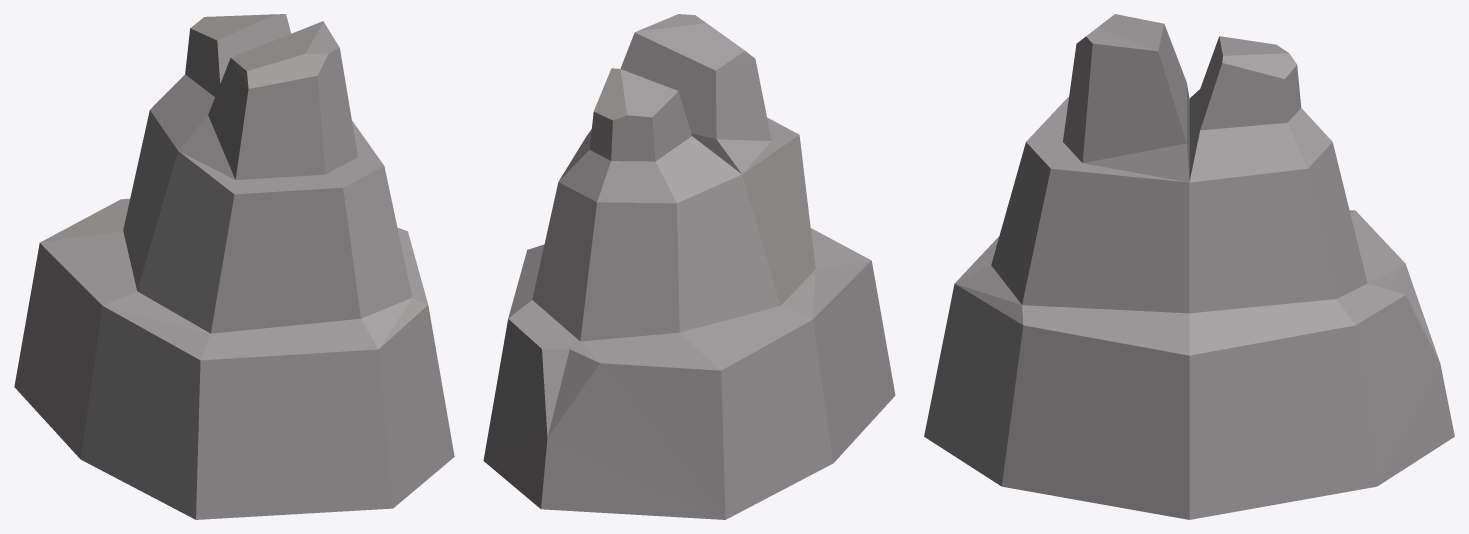
Rendered from Rock_Round_l_04.fbx.
3 views of the same model, side by side, from view 1: azimuth 30°, elevation 25°; view 2: azimuth 150°, elevation 25°; view 3: azimuth 270°, elevation 25° (orthographic). The views are drawn at different scales.
Visible parts, largest first — view 1: Rock_Round_l_04; view 2: Rock_Round_l_04; view 3: Rock_Round_l_04.
Boxes of the visible parts, bbox=[...] form: Rock_Round_l_04: bbox=[14, 14, 454, 519]; Rock_Round_l_04: bbox=[483, 14, 895, 519]; Rock_Round_l_04: bbox=[924, 14, 1454, 519].
Size of the model in its own units: 151 by 163 by 192.
